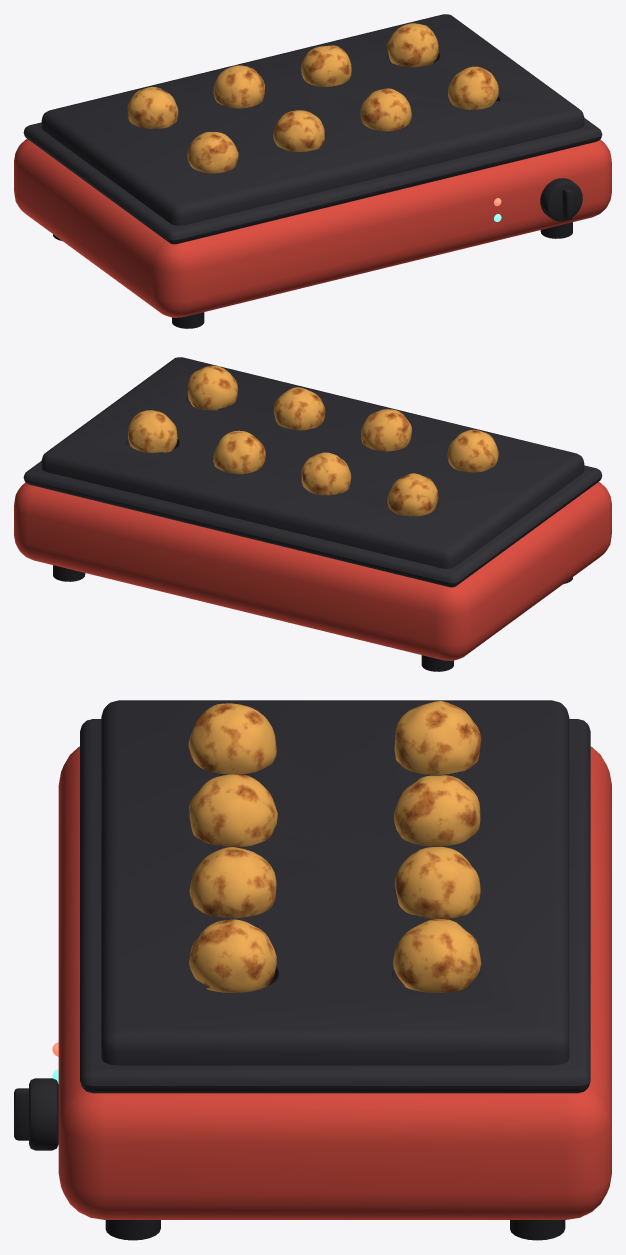
The model's file is Takoyaki_Grill_Cooking.fbx.
The picture shows the model from 3 angles, top to bottom: view 1: azimuth 30°, elevation 25°; view 2: azimuth 150°, elevation 25°; view 3: azimuth 270°, elevation 25°; orthographic projection. The views are drawn at different scales.
Parts seen in each view (by area): view 1: Takoyaki_Grill_Cooking; view 2: Takoyaki_Grill_Cooking; view 3: Takoyaki_Grill_Cooking.
Part boxes in pixels (x1=…): Takoyaki_Grill_Cooking: x1=14, y1=14, x2=611, y2=328; Takoyaki_Grill_Cooking: x1=14, y1=357, x2=611, y2=671; Takoyaki_Grill_Cooking: x1=14, y1=700, x2=611, y2=1240.
Bounding box in the file's own units: 0.42 × 0.136 × 0.281.
Materials: 7 (1 with a texture image).
